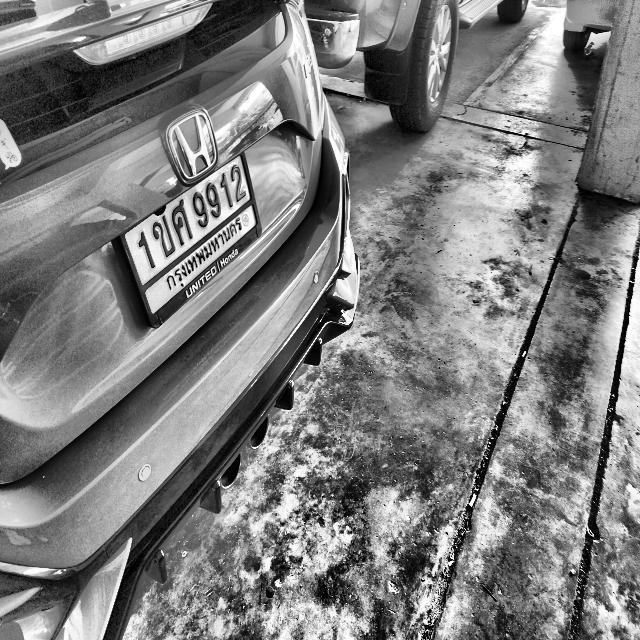license-plate: (106, 140, 263, 332)
